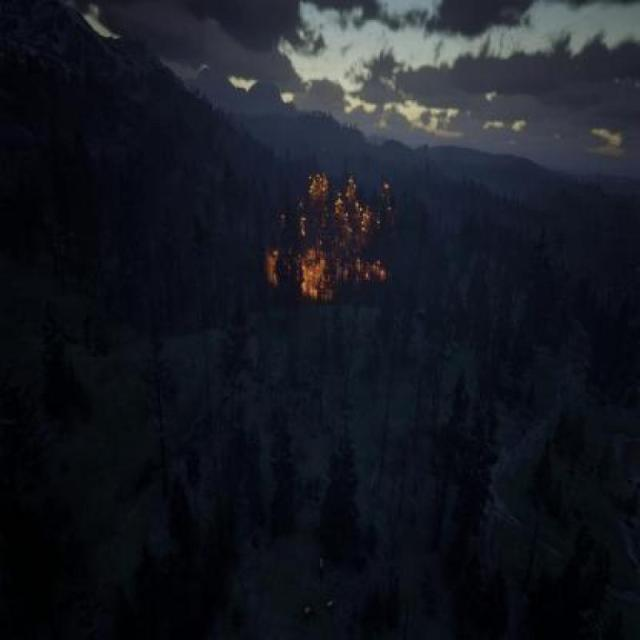Fire: (268, 150, 400, 300)
